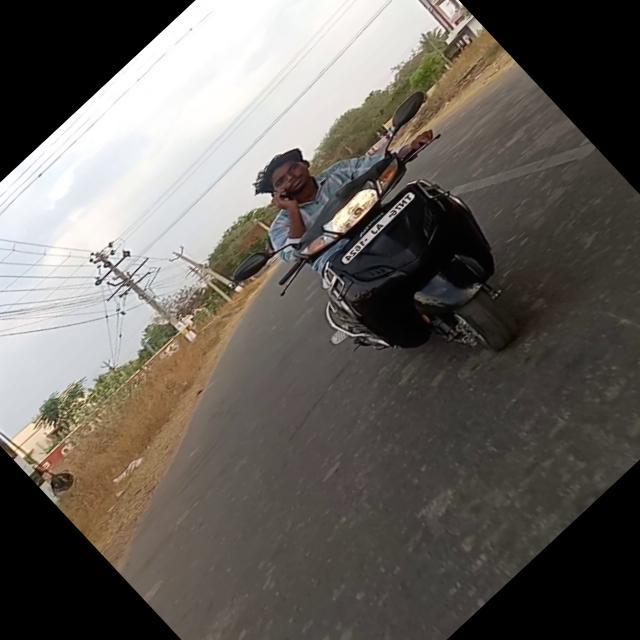USING_MOBILE: (254, 180, 316, 243)
